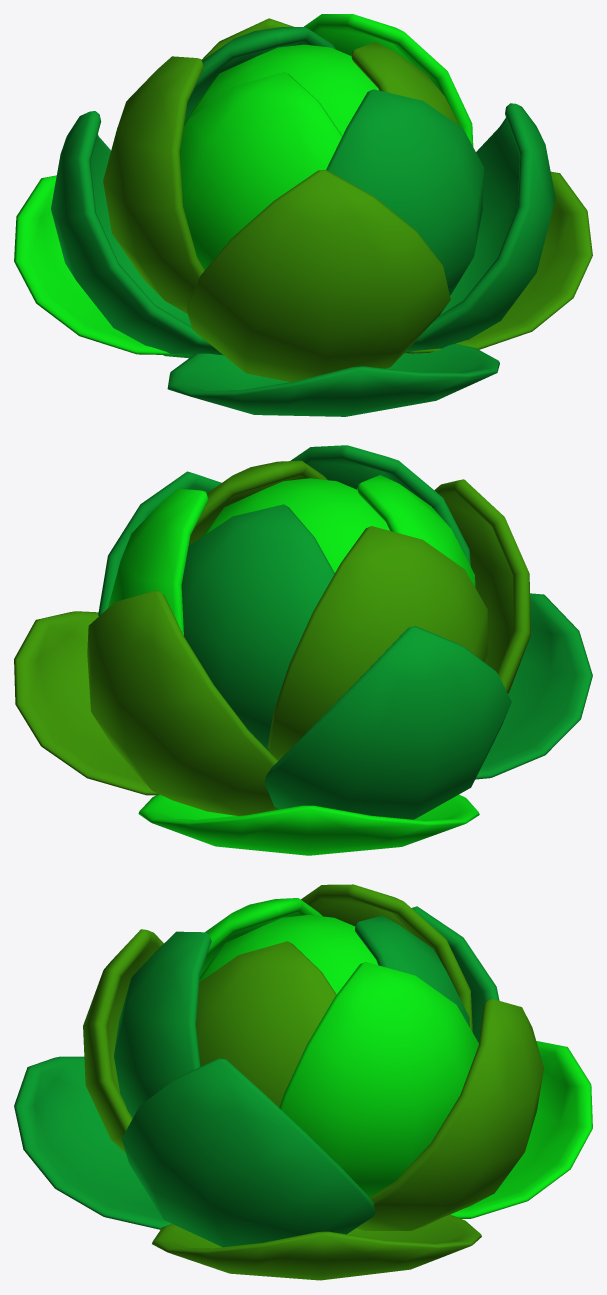
File: Lettuce.fbx
3 views of the same model, one above another, from view 1: azimuth 30°, elevation 25°; view 2: azimuth 150°, elevation 25°; view 3: azimuth 270°, elevation 25° (orthographic). The views are drawn at different scales.
Parts seen in each view (by area): view 1: Sphere; view 2: Sphere; view 3: Sphere.
Part boxes in pixels (bbox=[...]): Sphere: bbox=[14, 14, 592, 416]; Sphere: bbox=[14, 445, 592, 855]; Sphere: bbox=[14, 884, 592, 1280].
Size of the model in its own units: 0.3211 by 0.3464 by 0.1918.
